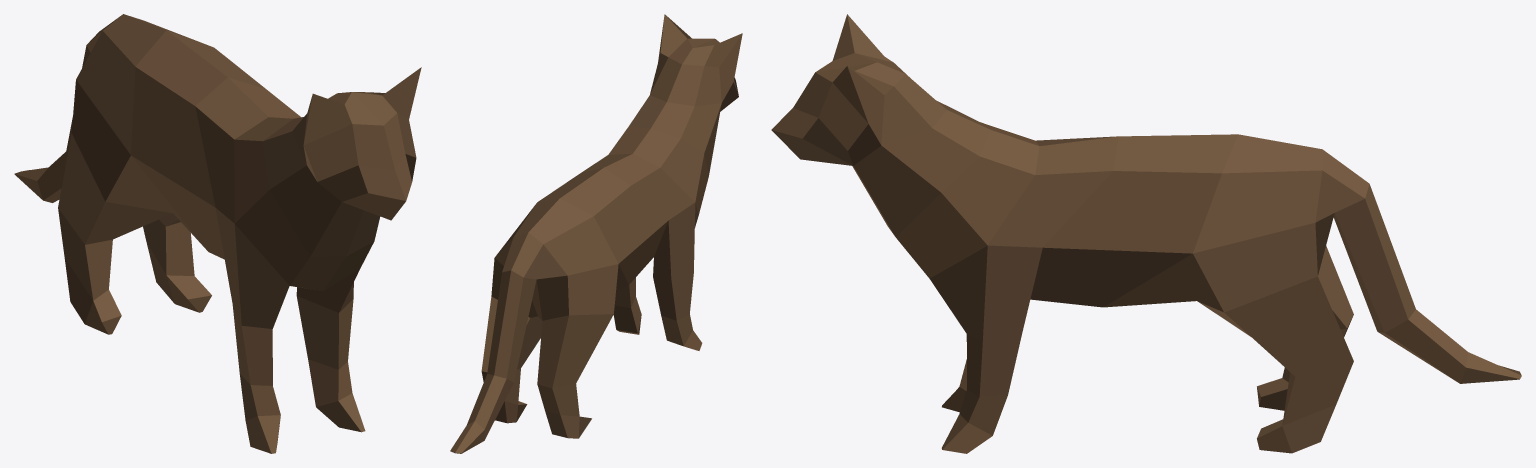
File: Maya_cat_2.fbx
3 renders of one model, left to right at view 1: azimuth 30°, elevation 25°; view 2: azimuth 150°, elevation 25°; view 3: azimuth 270°, elevation 25°, orthographic. The views are drawn at different scales.
Visible parts, largest first — view 1: Cat; view 2: Cat; view 3: Cat.
Part boxes in pixels (box(x1,y1,x2,y2)): Cat: box(14, 14, 421, 453); Cat: box(450, 14, 742, 453); Cat: box(771, 14, 1521, 453).
Bounding box in the file's own units: 1.51 × 4.2 × 7.37.
